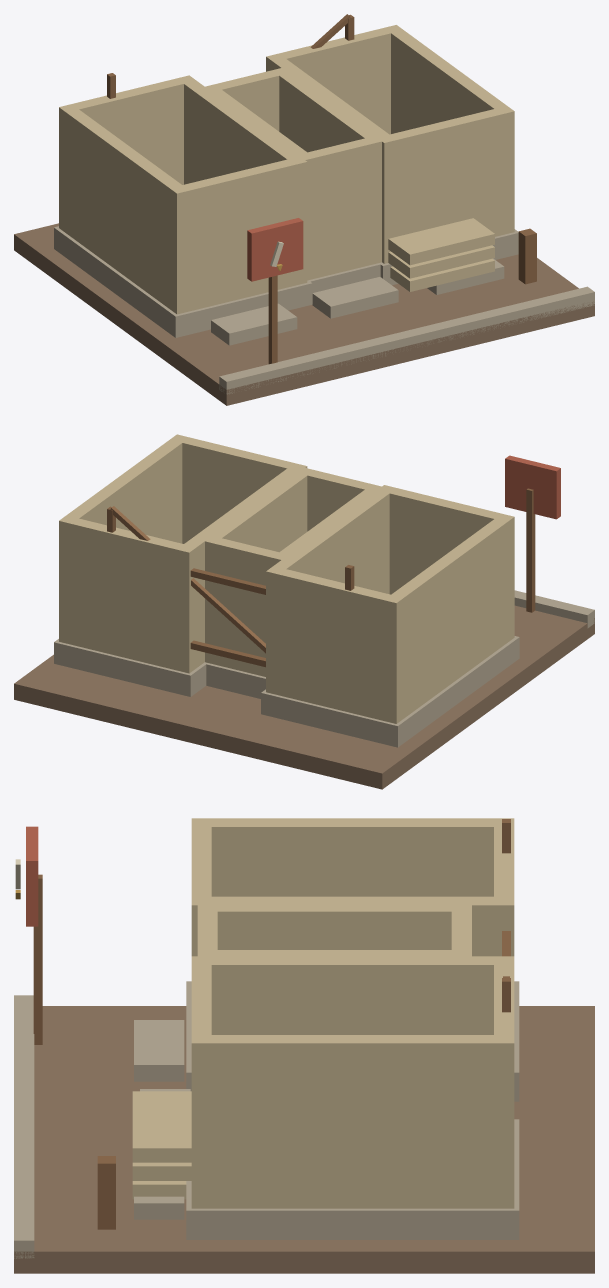
Rendered from school-sunrise-half-built.glb.
The picture shows the model from 3 angles, top to bottom: view 1: azimuth 30°, elevation 25°; view 2: azimuth 150°, elevation 25°; view 3: azimuth 270°, elevation 25°; orthographic projection. The views are drawn at different scales.
Parts seen in each view (by area): view 1: school; view 2: school; view 3: school.
Part boxes in pixels (<box>): school: <box>14,14,594,405</box>; school: <box>14,434,594,789</box>; school: <box>14,818,594,1273</box>.
Bounding box in the file's own units: 2.88 × 1.38 × 2.88.
